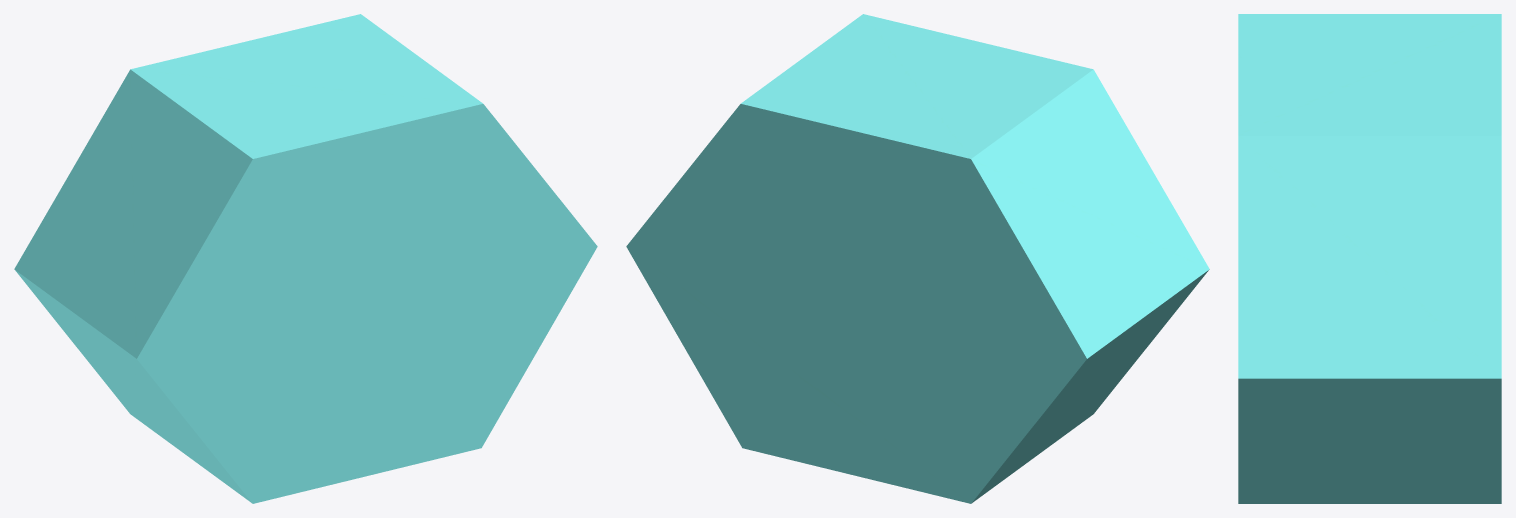
File: systemelemnt2 - Copy.fbx
3 views of the same model, side by side, from view 1: azimuth 30°, elevation 25°; view 2: azimuth 150°, elevation 25°; view 3: azimuth 270°, elevation 25° (orthographic). The views are drawn at different scales.
Parts seen in each view (by area): view 1: node_id43; view 2: node_id43; view 3: node_id43.
Boxes of the visible parts, <box> form: node_id43: <box>14,14,597,503</box>; node_id43: <box>626,14,1209,503</box>; node_id43: <box>1238,14,1501,503</box>.
Size of the model in its own units: 0.5373 by 0.3842 by 0.2475.
1 material, 1 textured.
